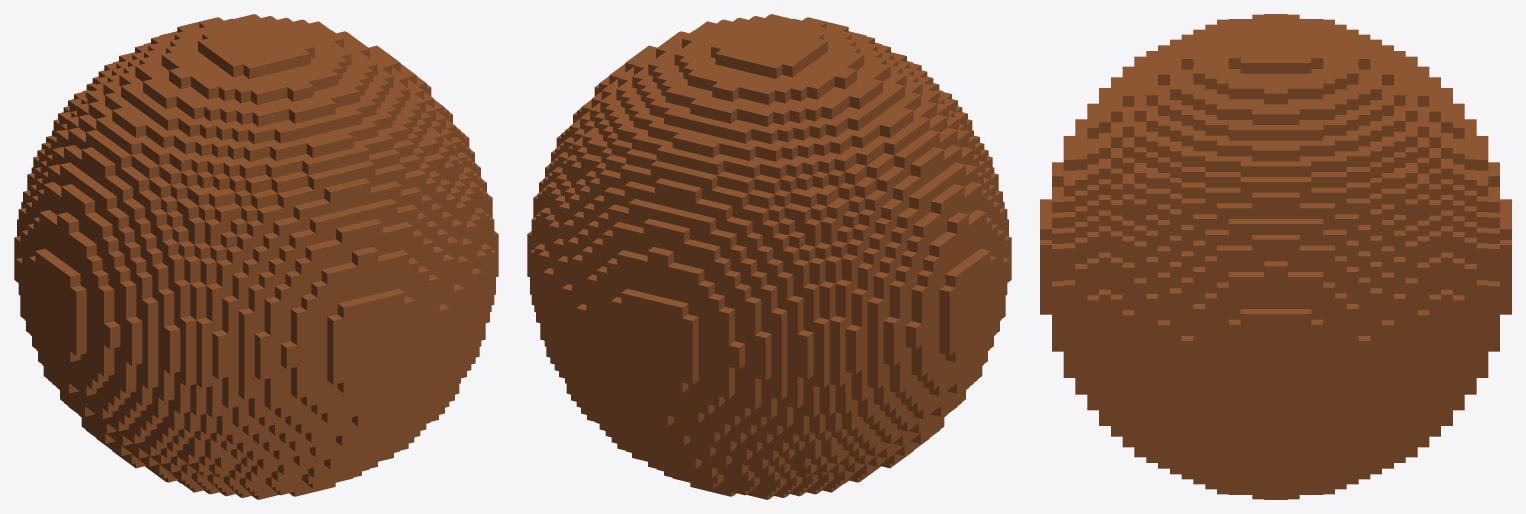
Rendered from bullet.obj.
The picture shows the model from 3 angles, left to right: view 1: azimuth 30°, elevation 25°; view 2: azimuth 150°, elevation 25°; view 3: azimuth 270°, elevation 25°; orthographic projection.
Bounding box in the file's own units: 4 × 4 × 4.
Materials: 1 (1 with a texture image).
